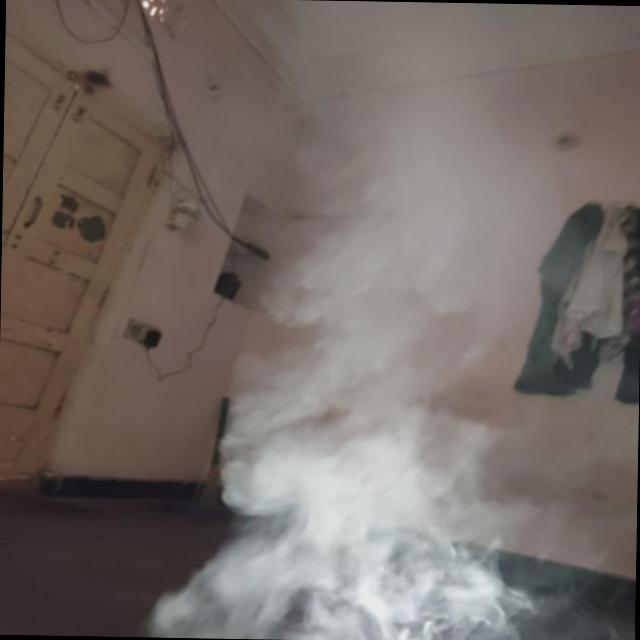smoke: (169, 249, 468, 640)
